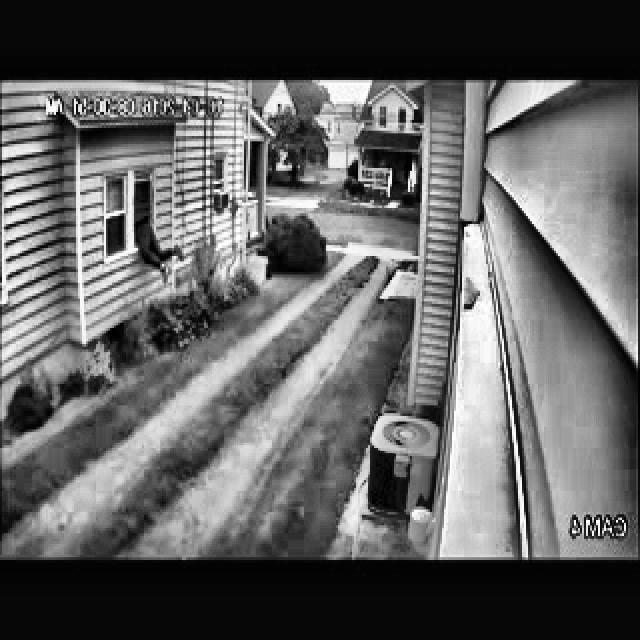burglary: (98, 160, 186, 294)
